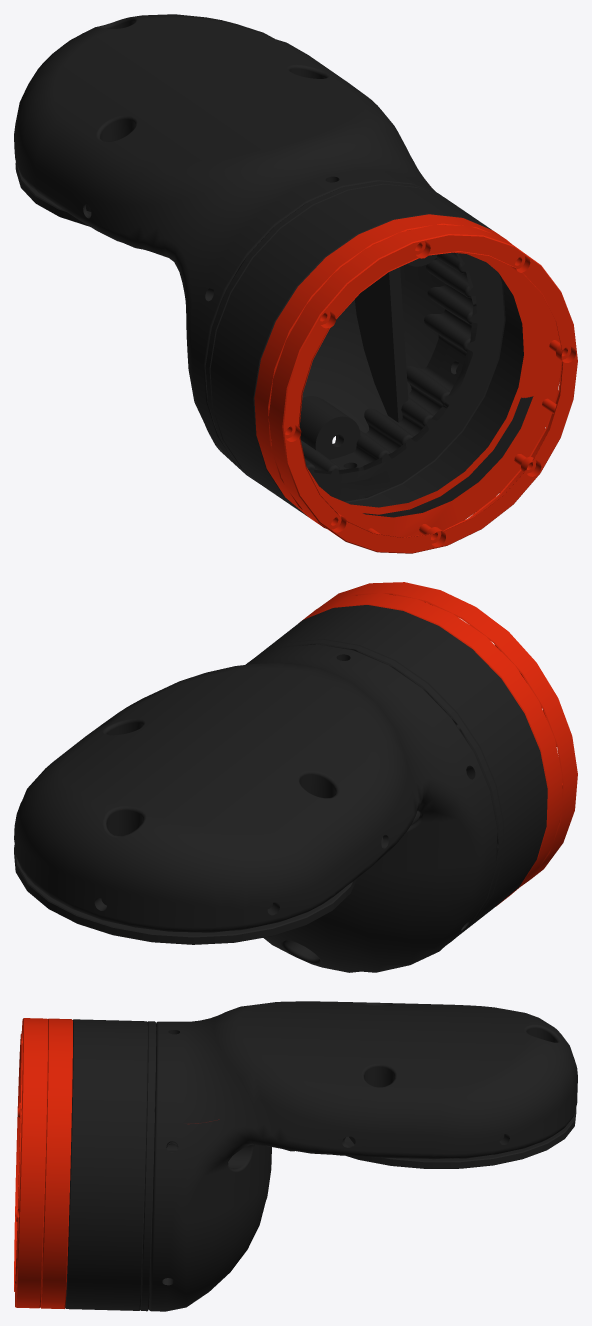
The model's file is Robolink_RebeL_003.dae.
3 renders of one model, top to bottom at view 1: azimuth 30°, elevation 25°; view 2: azimuth 150°, elevation 25°; view 3: azimuth 270°, elevation 25°, orthographic. The views are drawn at different scales.
Parts seen in each view (by area): view 1: Robolink_RebeL_003; view 2: Robolink_RebeL_003; view 3: Robolink_RebeL_003.
Boxes of the visible parts, x1,y1,x2,y2 form: Robolink_RebeL_003: [14, 14, 577, 553]; Robolink_RebeL_003: [14, 582, 577, 972]; Robolink_RebeL_003: [14, 1001, 577, 1311].
Bounding box in the file's own units: 0.1062 × 0.2034 × 0.1088.
1 material, 1 textured.
